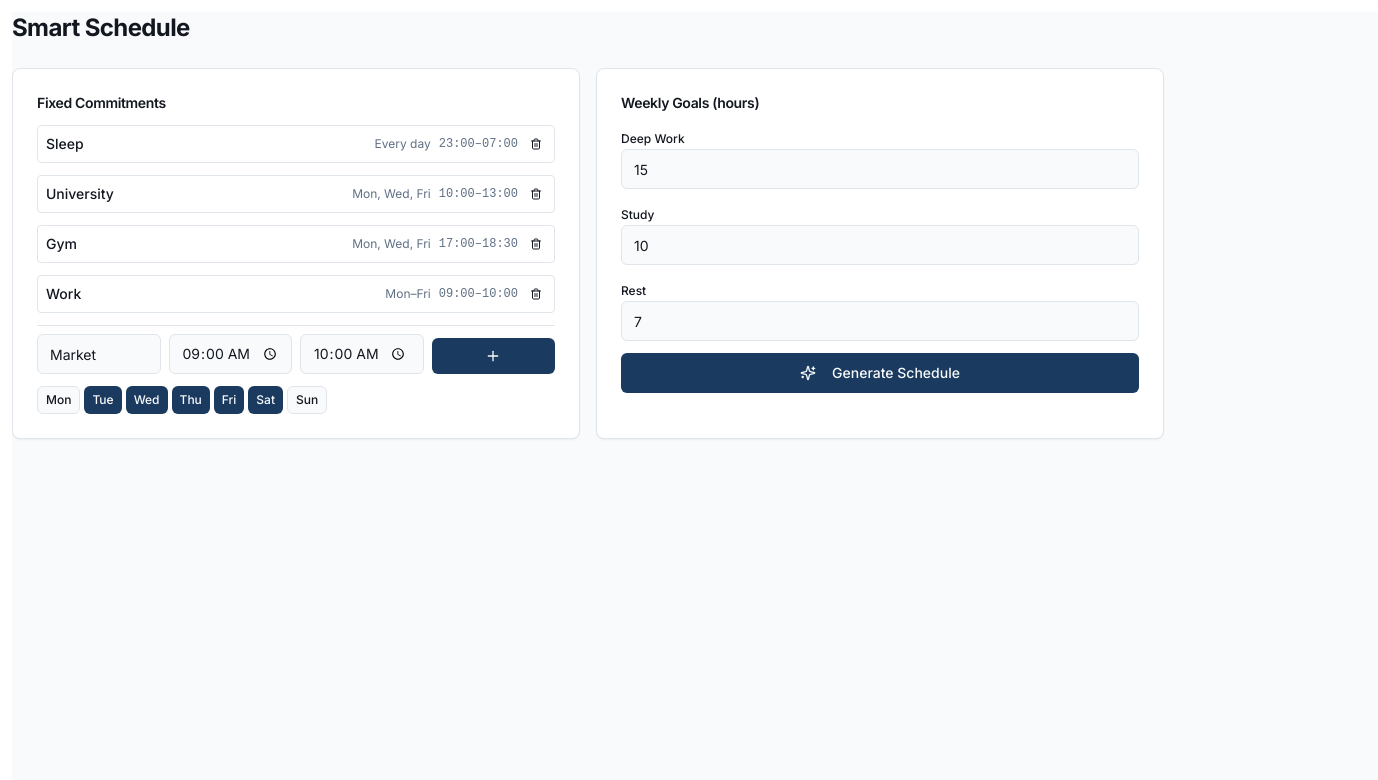
Test: Commitment days › adds a commitment on Mon–Fri by default and lets the user change the days
Earlier steps of the test are not shown.
Click the button "Tue" at (103,400), box [84,386,122,414]
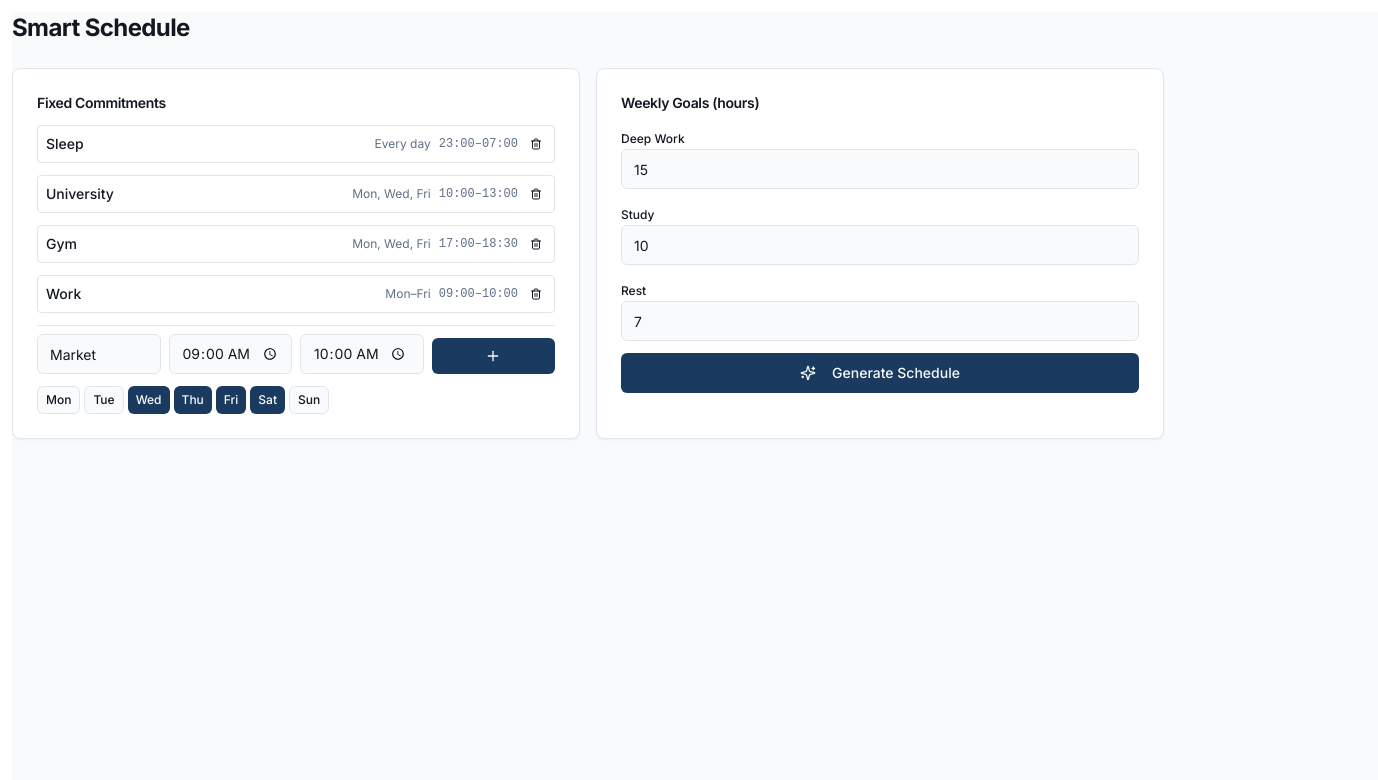
Click the button "Wed" at (149,400), box [128,386,170,414]
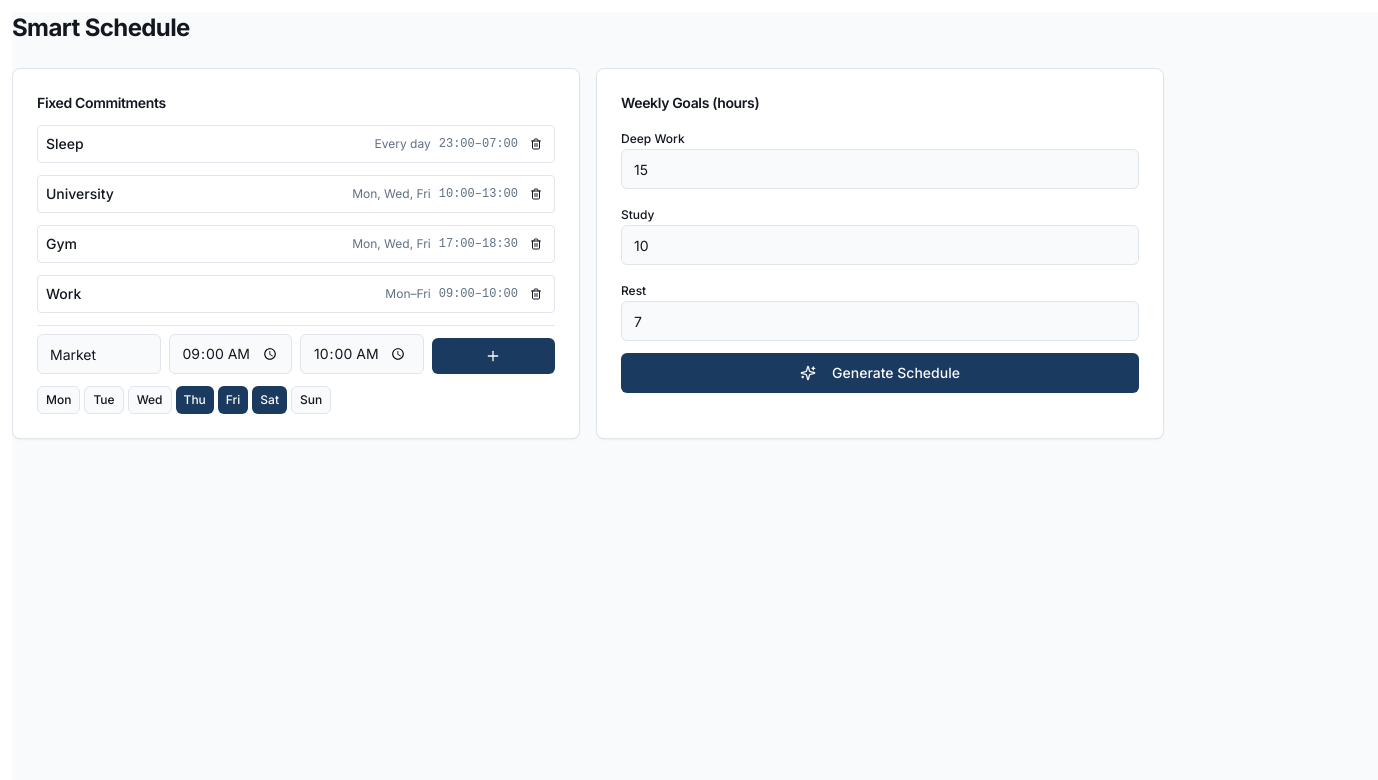
Click the button "Thu" at (195,400), box [176,386,214,414]
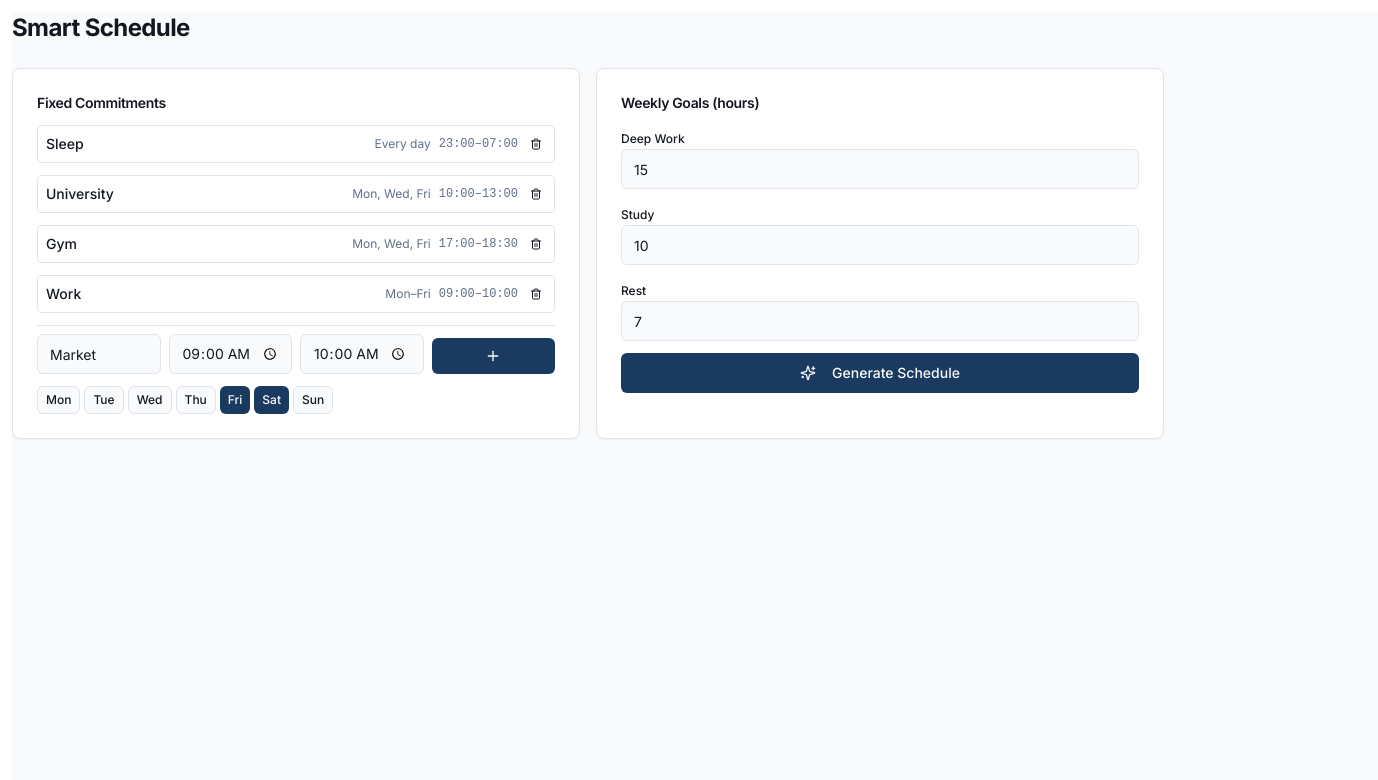
Click the button "Fri" at (235,400), box [220,386,250,414]
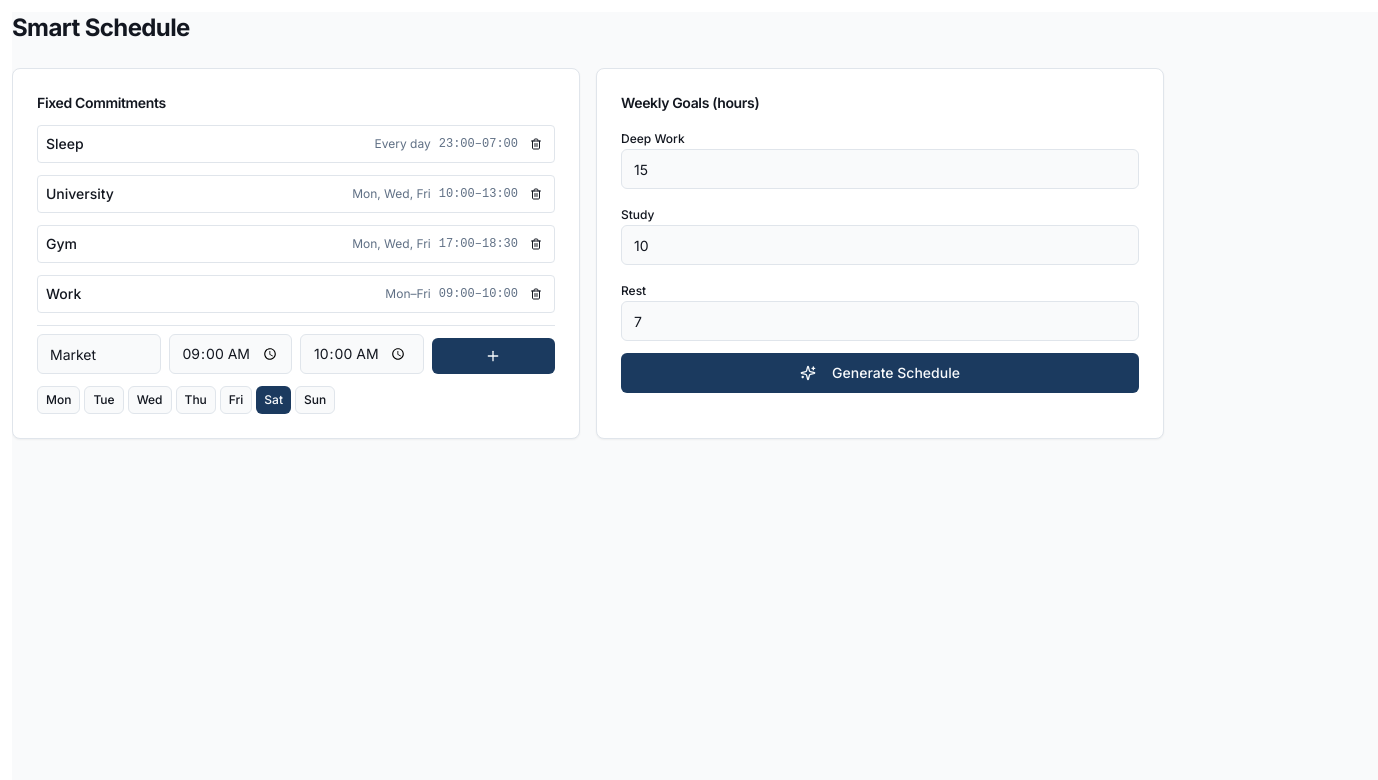
Click the button named "Add commitment" at (493,356), box [432,338,555,374]
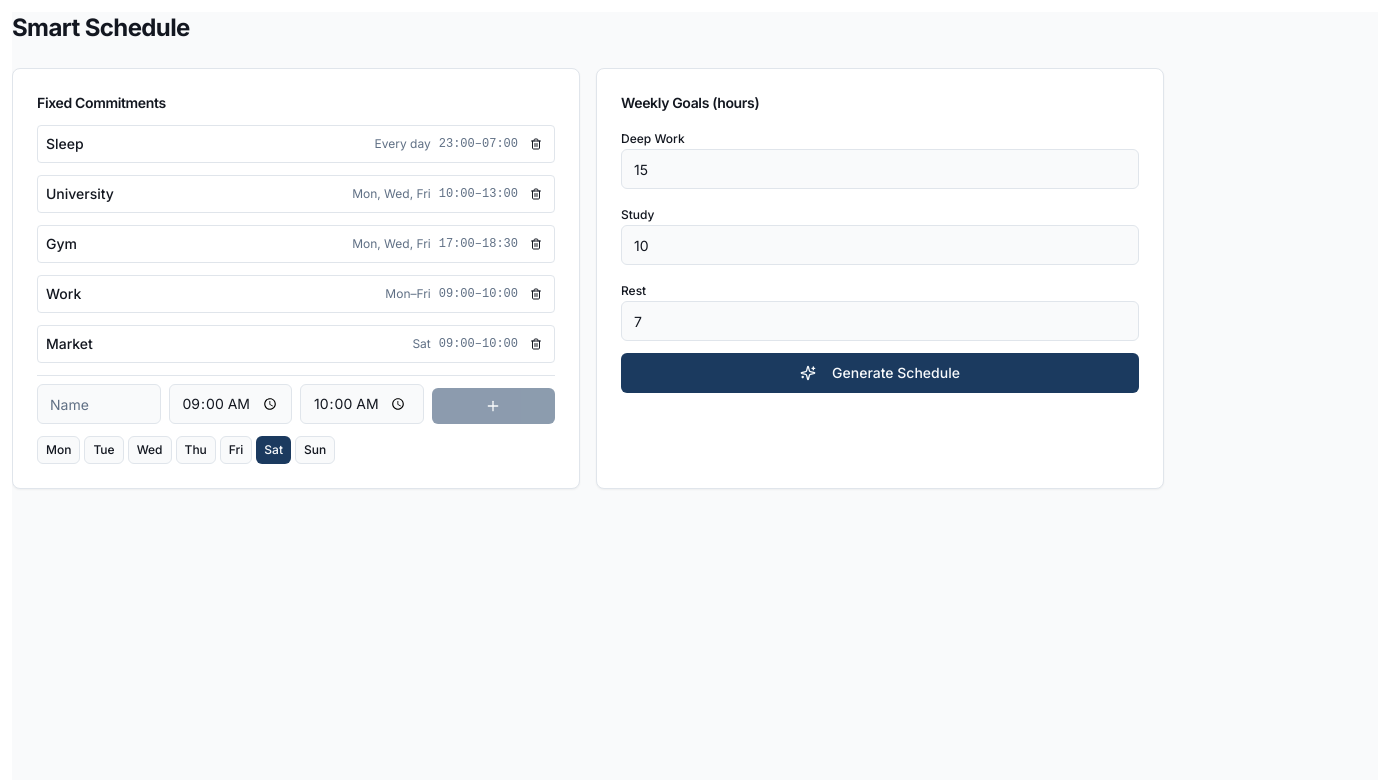
Check: the text "Market" shows "Sat", box [412,336,431,351]
Click the button "Generate Schedule" at (880,373), box [621,353,1139,393]
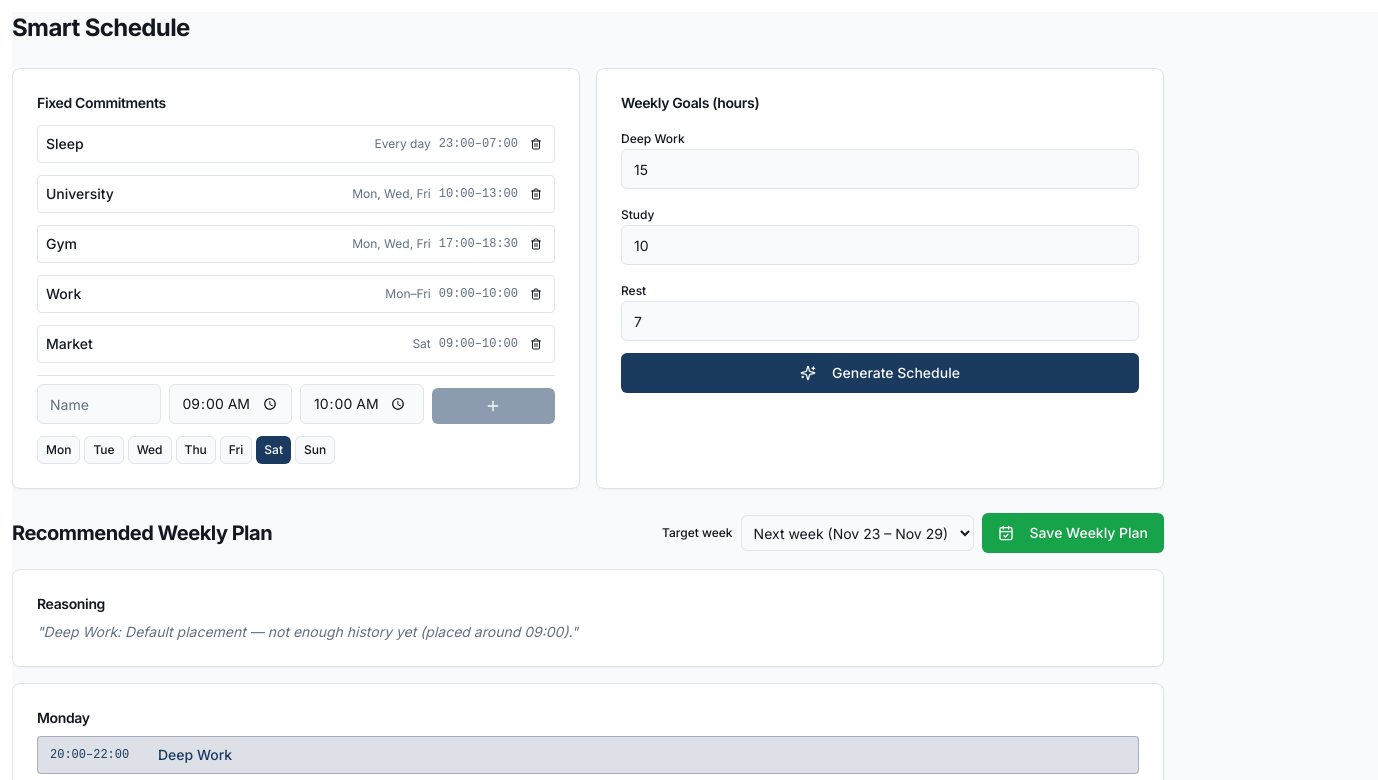
Check: the heading "Recommended Weekly Plan" is shown, box [12,519,272,547]
